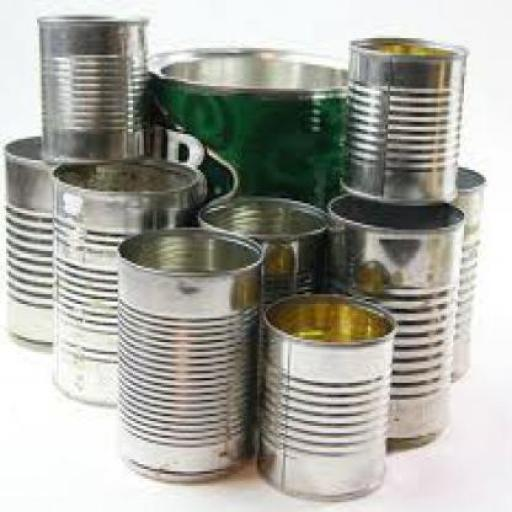metal: (48, 160, 203, 406), (113, 225, 255, 483), (327, 190, 462, 456), (142, 46, 348, 216), (257, 287, 393, 502), (340, 26, 460, 204), (35, 14, 148, 161), (196, 191, 327, 300), (2, 132, 61, 342), (451, 162, 477, 380)
